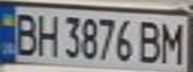3: (60, 12, 81, 59)
6: (115, 16, 139, 62)
7: (97, 16, 118, 61)
8: (78, 14, 100, 61)
B: (9, 9, 42, 56), (136, 18, 166, 64)
H: (33, 10, 60, 57)
M: (157, 18, 190, 64)
